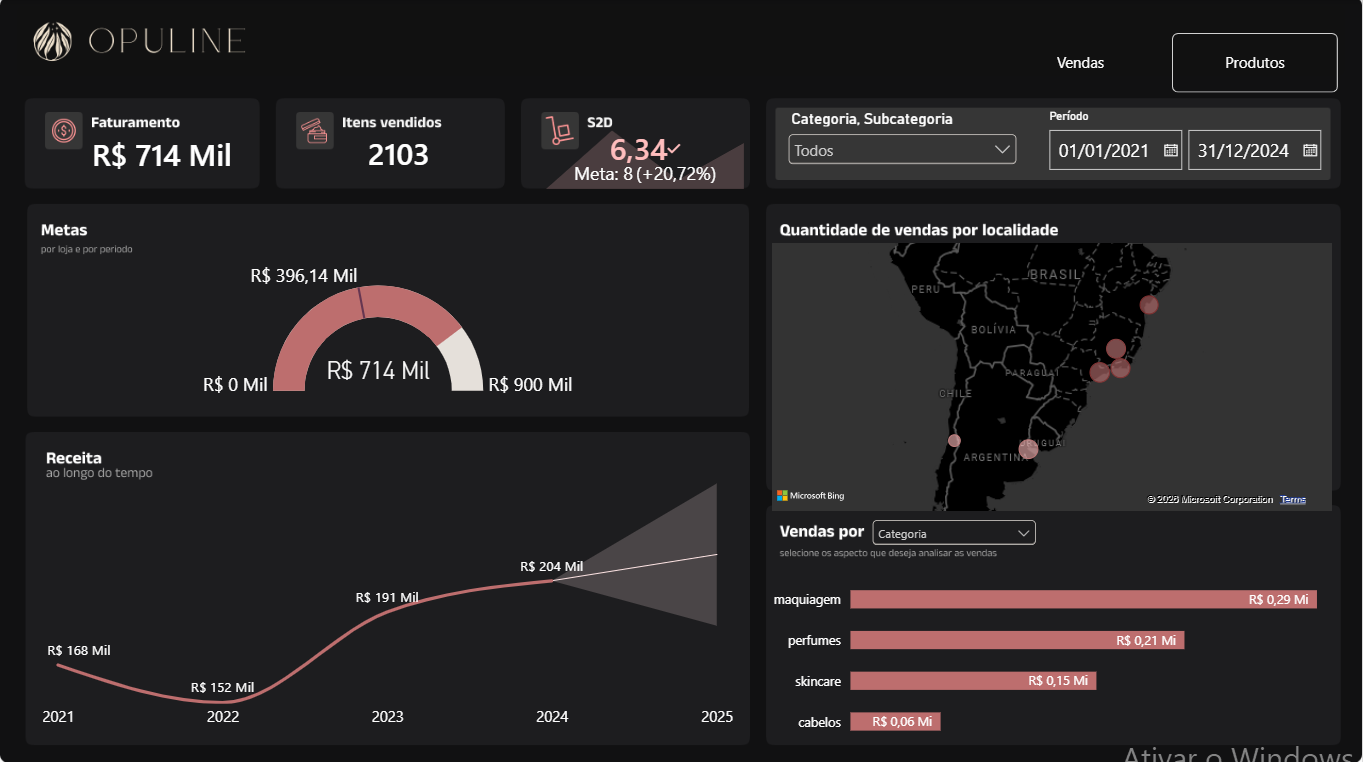

This screenshot's page, from the dashboard's own definition file:
{"tool":"powerbi","page":{"name":"Vendas","canvas":[1280,720],"ordinal":8},"visuals":[{"type":"cardVisual","fields":{"Data":["_Medidas.Faturamento"]},"box":[70.8,94,175.1,101.3],"z":0},{"type":"cardVisual","fields":{"Data":["_Medidas.Quantidade"]},"box":[329.9,69.2,174.5,150],"z":1},{"type":"kpi","fields":{"Goal":["_Medidas.MetaS2Door"],"Indicator":["Avg(fPedidos.ship_to_door)"],"TrendLine":["Calendario.Date.Variation.Hierarquia de datas.Ano"]},"box":[513,123,186.1,55.1],"z":2},{"type":"gauge","fields":{"TargetValue":["Sum(dMetaMensal.Meta)"],"Y":["_Medidas.Faturamento"]},"box":[29.4,224.7,669.7,164.1],"z":3},{"type":"lineChart","fields":{"Category":["Calendario.Date.Variation.Hierarquia de datas.Ano"],"Y":["_Medidas.Faturamento"]},"box":[22.6,431,683.2,273],"z":4},{"type":"slicer","fields":{"Values":["dCategoriasProdutos.Categoria Hierarquia.Categoria","dCategoriasProdutos.Categoria Hierarquia.Subcategoria"]},"box":[735.8,102.8,224,67.3],"z":5},{"type":"slicer","fields":{"Values":["Calendario.Date"]},"box":[978.8,102.8,279.1,98.6],"z":6},{"type":"map","fields":{"Category":["fPedidos.Cidade"],"Size":["_Medidas.FaturamentoMédio"]},"box":[708.9,214.9,558.9,282.2],"z":7},{"type":"clusteredBarChart","fields":{"Category":["dMarcas.Origem"],"Y":["_Medidas.Faturamento"]},"box":[705.8,517.3,557.7,202.6],"z":8},{"type":"slicer","fields":{"Values":["Comparação categorias.Comparação categorias"]},"box":[815.4,483,163.4,55.1],"z":9},{"type":"pageNavigator","box":[937.2,31.2,320.8,56.9],"z":10}]}

Visuals, with their boxes on the page's 1280x720 design canvas (x1, y1, x2, y2). These are canvas units, not pixel positions in the 1363x762 screenshot, which may show the page scaled, cropped or inside an application window:
cardVisual - _Medidas.Faturamento: 71, 94, 246, 195
cardVisual - _Medidas.Quantidade: 330, 69, 504, 219
kpi - _Medidas.MetaS2Door x Avg(fPedidos.ship_to_door): 513, 123, 699, 178
gauge - Sum(dMetaMensal.Meta) x _Medidas.Faturamento: 29, 225, 699, 389
lineChart - Calendario.Date.Variation.Hierarquia de datas.Ano x _Medidas.Faturamento: 23, 431, 706, 704
slicer - dCategoriasProdutos.Categoria Hierarquia.Categoria x dCategoriasProdutos.Categoria Hierarquia.Subcategoria: 736, 103, 960, 170
slicer - Calendario.Date: 979, 103, 1258, 201
map - fPedidos.Cidade x _Medidas.FaturamentoMédio: 709, 215, 1268, 497
clusteredBarChart - dMarcas.Origem x _Medidas.Faturamento: 706, 517, 1264, 720
slicer - Comparação categorias.Comparação categorias: 815, 483, 979, 538
pageNavigator: 937, 31, 1258, 88
